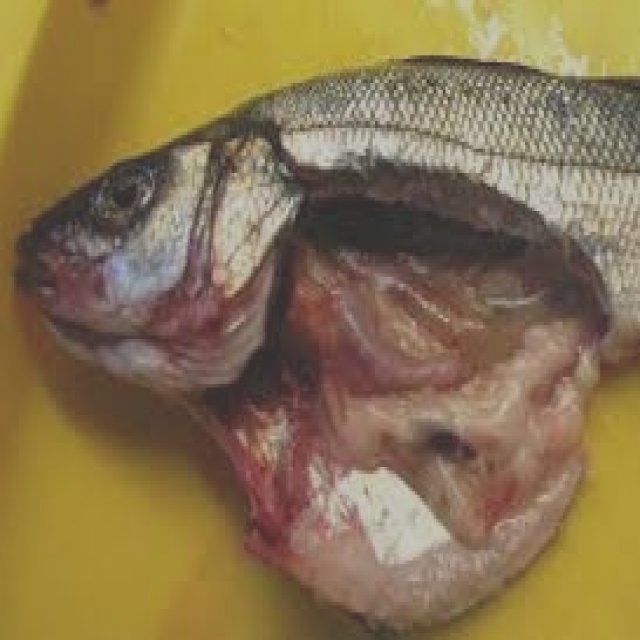EUS Disease: (9, 56, 640, 638), (128, 128, 640, 634)
